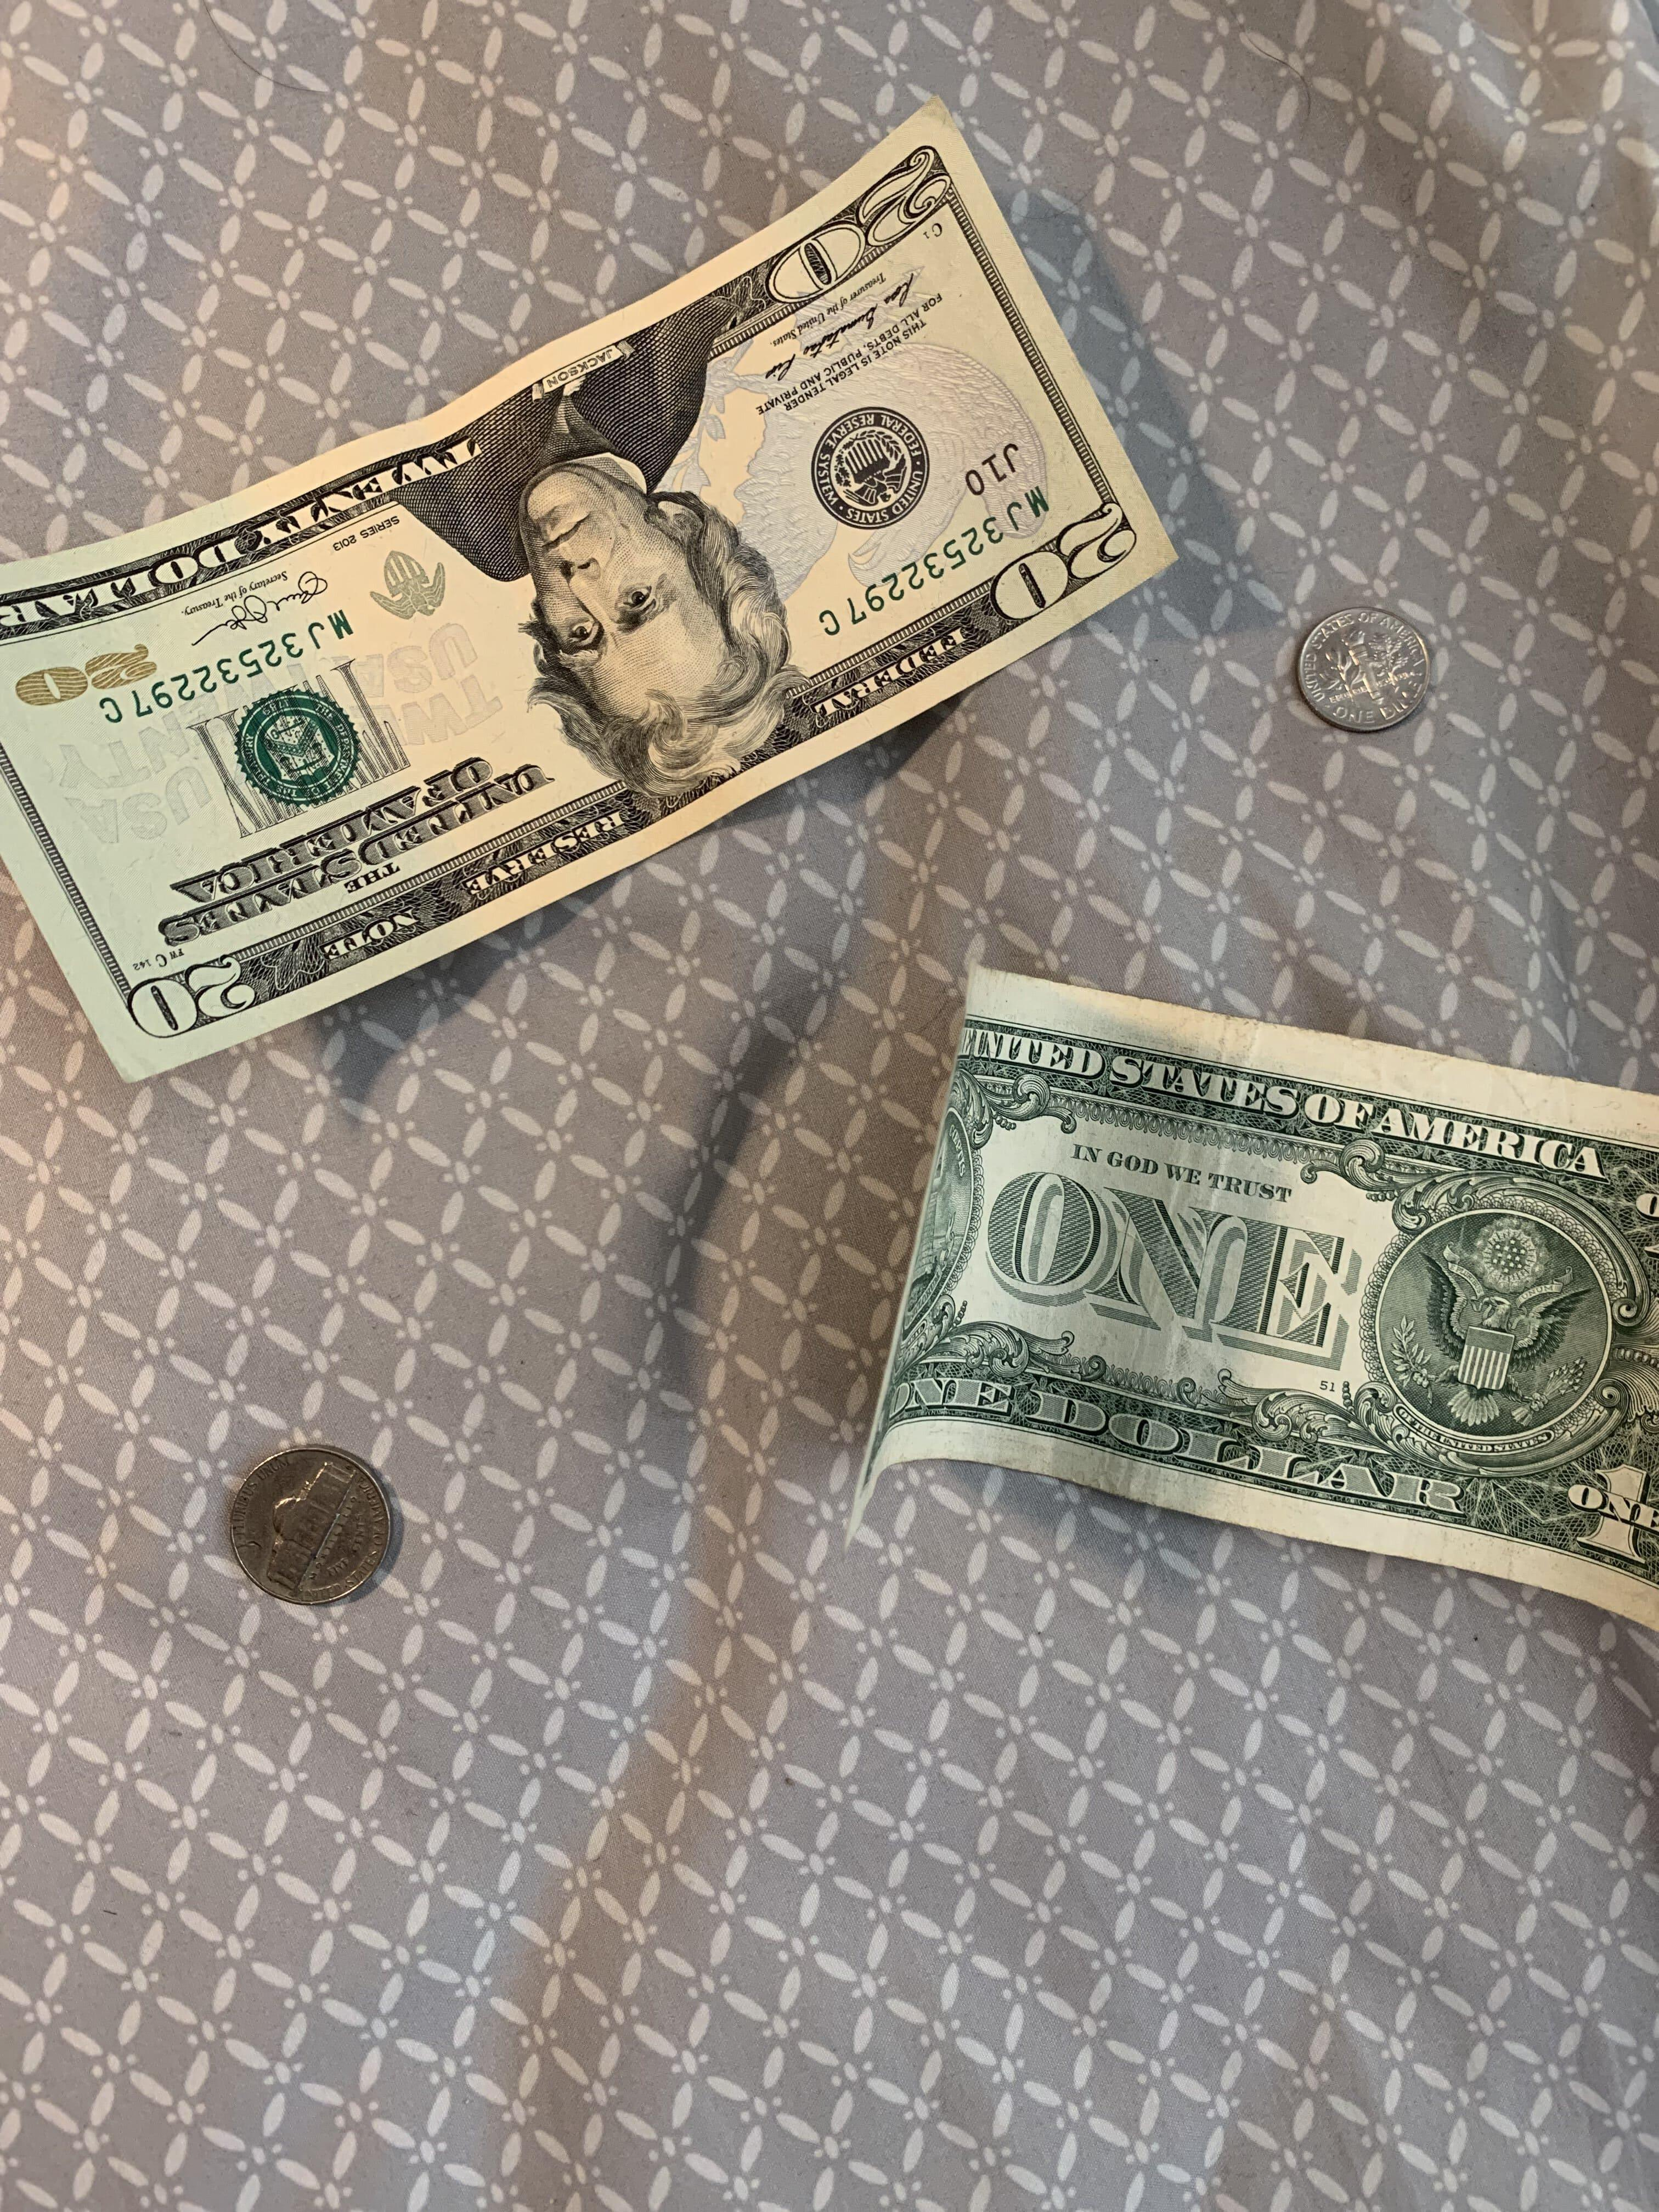Dime: (1258, 570, 1488, 773)
Nickel: (195, 1425, 436, 1623)
OneBill: (830, 935, 1657, 1662)
TwentyBill: (2, 70, 1227, 1101)
